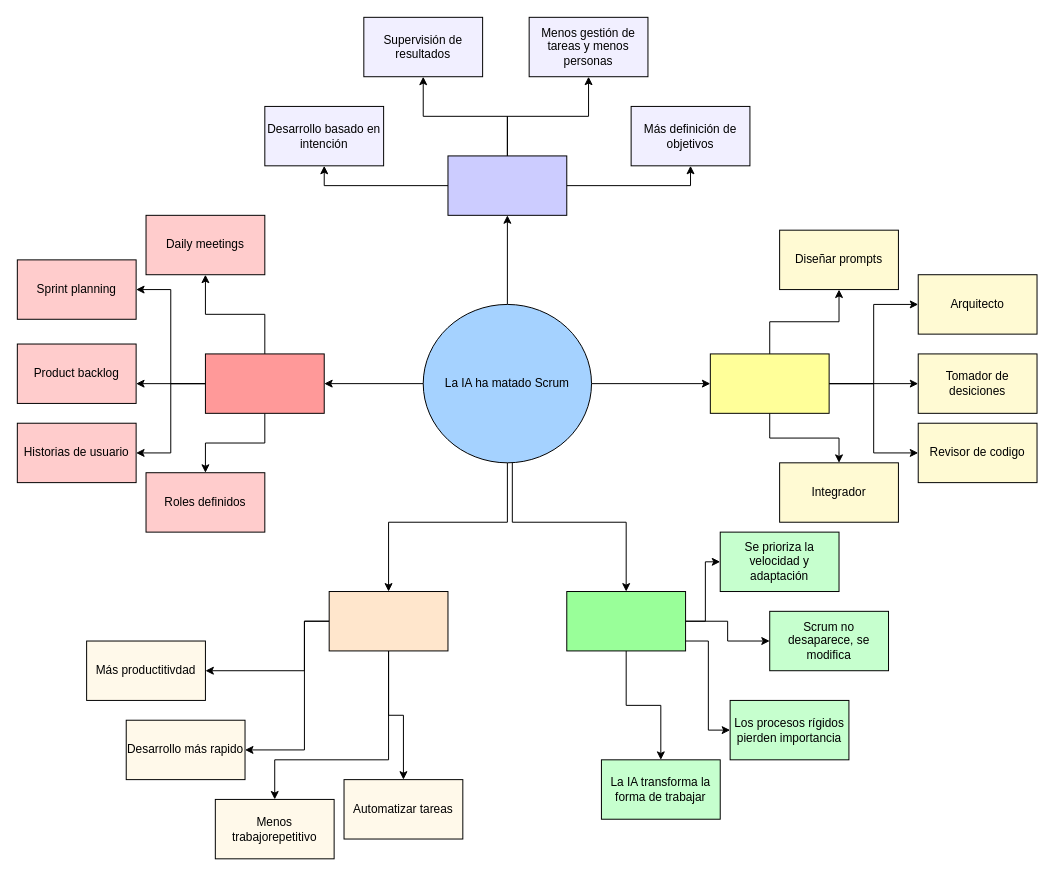
This 1054x876 diagram has some shape labels left out. The shapes that lost their labels are listed below. From the top down, each one's box as (x1, y1, x2, y2) in pixels, then its label:
(447, 155, 567, 215): Cambio de enfoque
(204, 353, 324, 413): Scrum tradicional
(709, 353, 829, 413): Nuevo rol del desarrollador
(328, 591, 448, 651): Rol de la IA
(566, 591, 686, 651): Conclusiones
